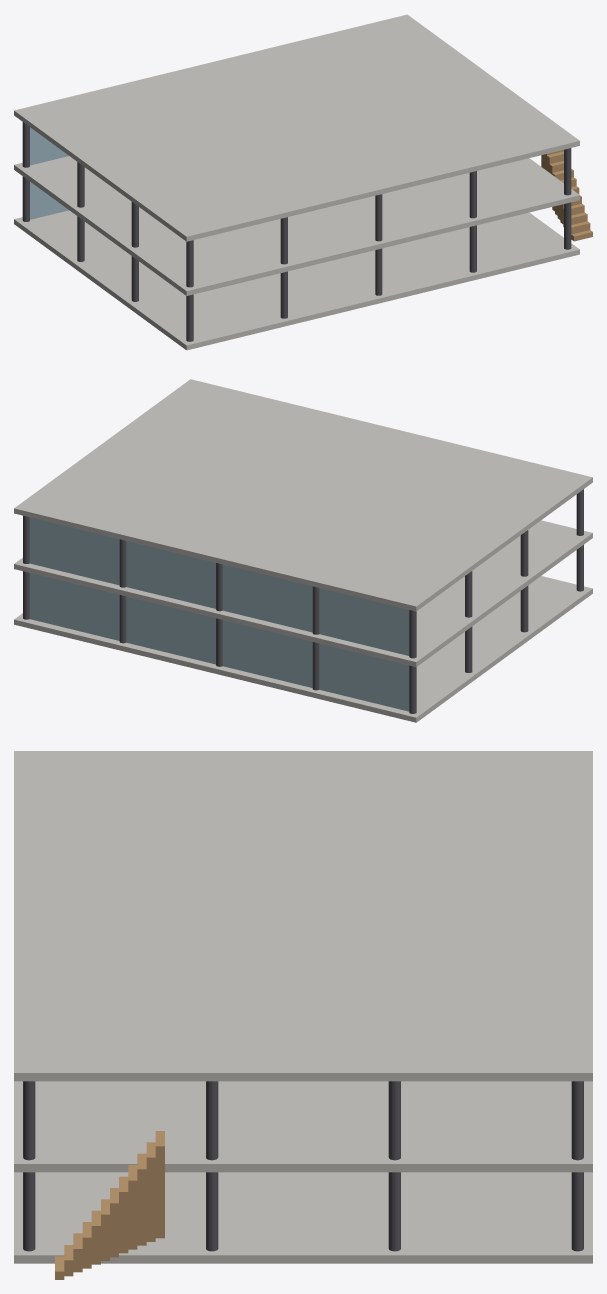
The model's file is 05_pavilion.glb.
The picture shows the model from 3 angles, top to bottom: view 1: azimuth 30°, elevation 25°; view 2: azimuth 150°, elevation 25°; view 3: azimuth 270°, elevation 25°; orthographic projection. The views are drawn at different scales.
Parts seen in each view (by area): view 1: concrete, columns, glass, wood; view 2: concrete, glass, columns; view 3: concrete, columns, wood.
Part boxes in pixels (box(x1,y1,x2,y2)): concrete: box(14, 14, 579, 350); columns: box(22, 122, 571, 341); glass: box(30, 127, 68, 219); wood: box(541, 150, 592, 241); concrete: box(14, 379, 592, 722); glass: box(29, 517, 409, 711); columns: box(23, 489, 583, 713); concrete: box(14, 751, 592, 1263); columns: box(23, 1081, 583, 1251); wood: box(55, 1131, 164, 1279).
Size of the model in its own units: 26.6 by 6.9 by 19.
